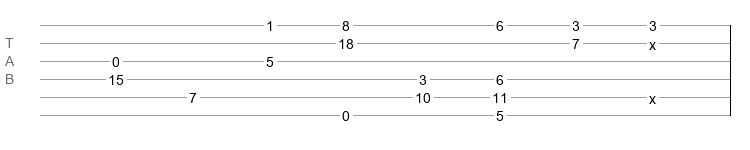0: (112, 54, 120, 64), (342, 108, 350, 118)
1: (266, 18, 274, 28)
10: (415, 90, 431, 100)
11: (492, 90, 508, 100)
15: (108, 72, 124, 82)
18: (338, 36, 354, 46)
3: (419, 72, 427, 82), (572, 18, 580, 28), (649, 18, 657, 28)
5: (266, 54, 274, 64), (496, 108, 504, 118)
6: (496, 18, 504, 28), (496, 72, 504, 82)
7: (189, 90, 197, 100), (572, 36, 580, 46)
8: (342, 18, 350, 28)
x: (649, 91, 656, 99), (649, 37, 656, 45)
